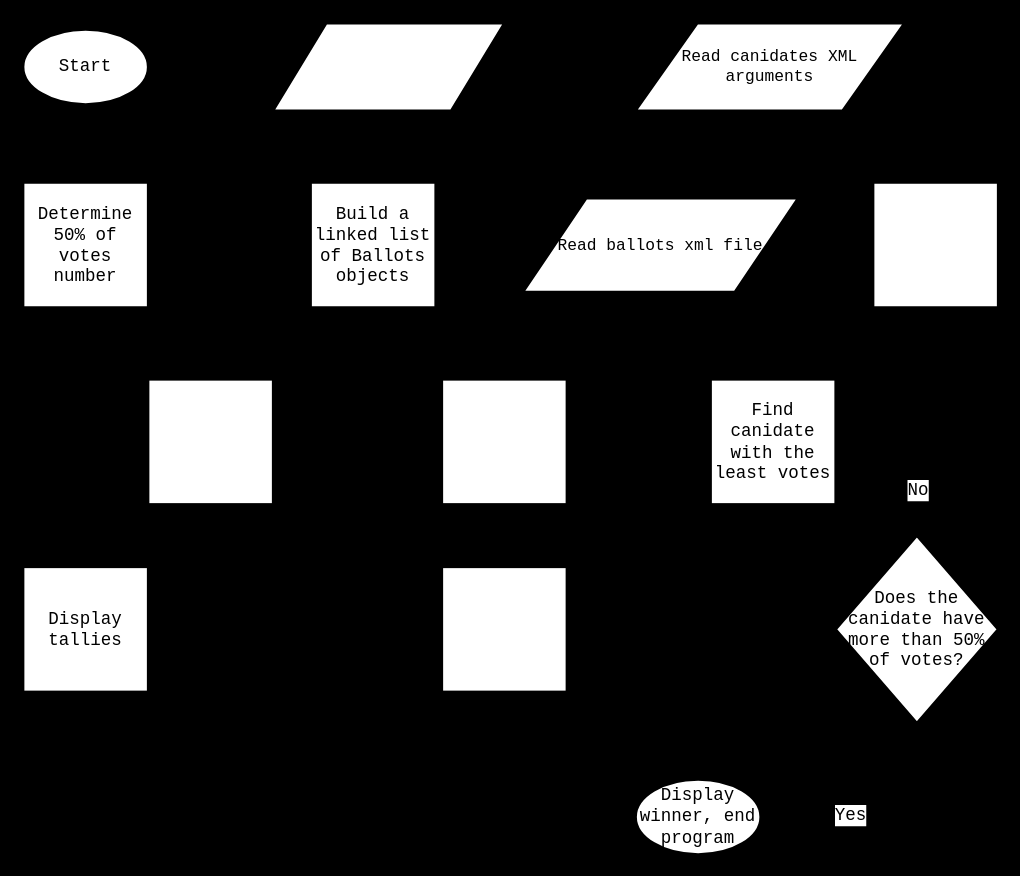
Some shapes in this 1020 by 876 pixel diagram are drawn without their labels. The centre of each missing label's shape, as x and y in pixels:
"Build a hash table of Canidate objects" belongs at point (935, 244).
"Find canidate with the most votes" belongs at point (504, 628).
"Read Command Line arguments" belongs at point (388, 66).
"Remove loser canidate" belongs at point (504, 441).
"Tally votes of currently valid canidates" belongs at point (210, 441).
